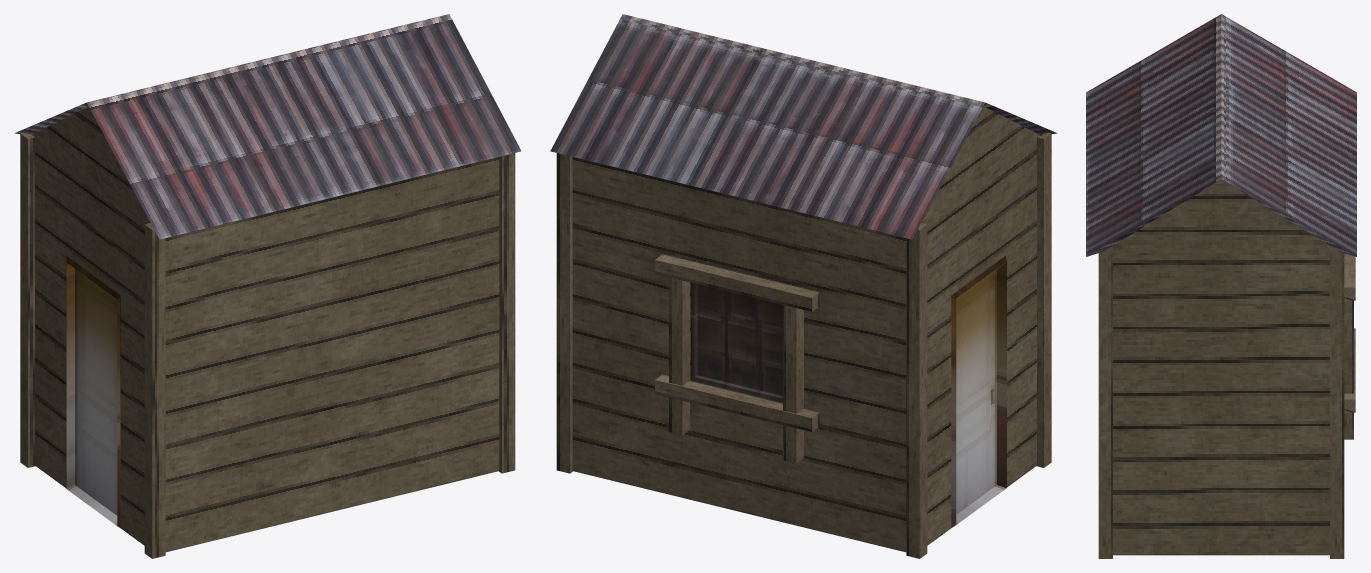
File: shed.glb
3 renders of one model, left to right at view 1: azimuth 30°, elevation 25°; view 2: azimuth 150°, elevation 25°; view 3: azimuth 270°, elevation 25°, orthographic. The views are drawn at different scales.
Visible parts, largest first — view 1: Shed; view 2: Shed; view 3: Shed.
Part boxes in pixels (box(x1,y1,x2,y2)): Shed: box(15, 14, 521, 558); Shed: box(550, 14, 1056, 558); Shed: box(1086, 14, 1356, 558).
Size of the model in its own units: 4.05 by 4.35 by 2.81.
Materials: 4 (4 with a texture image).
